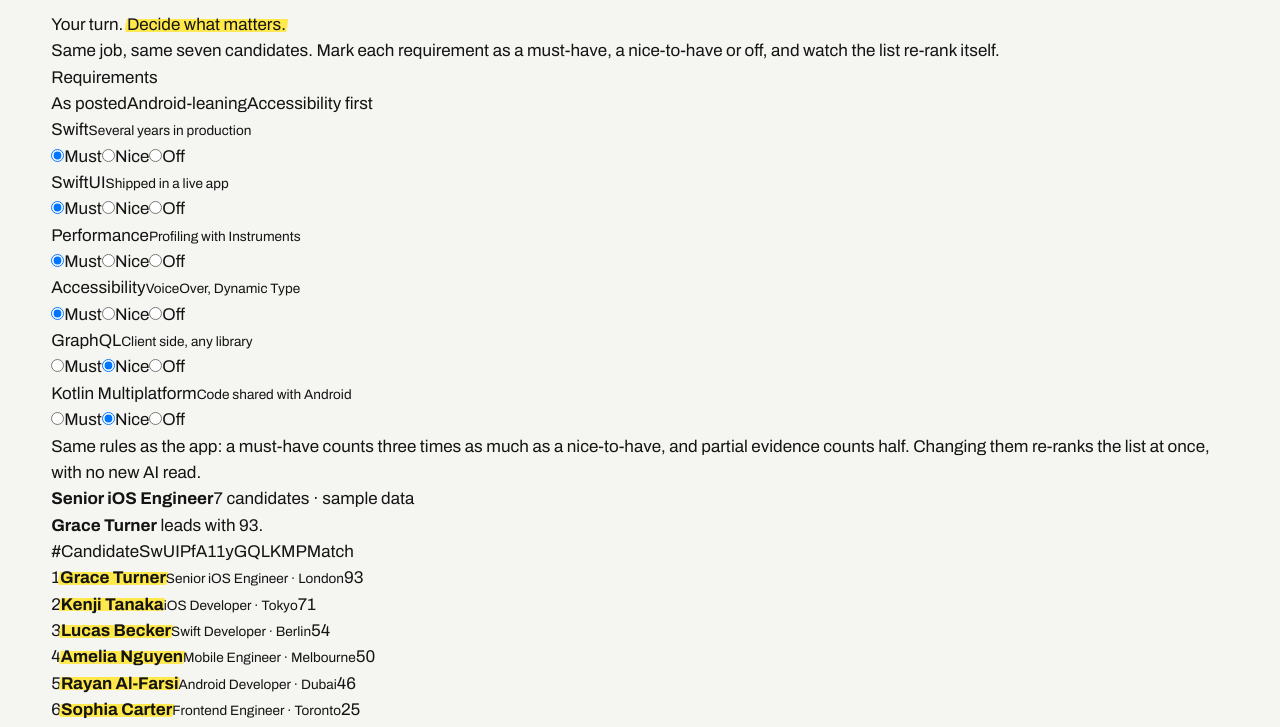
Test: ranks the sample list as posted, then re-ranks it when the weights change
The width and height of the screenshot is (1280, 727).
What coordinates should you click on to do the following:
click the button "Android-leaning"
I would click on:
 (187, 104)
Its box is [127,91,247,117].
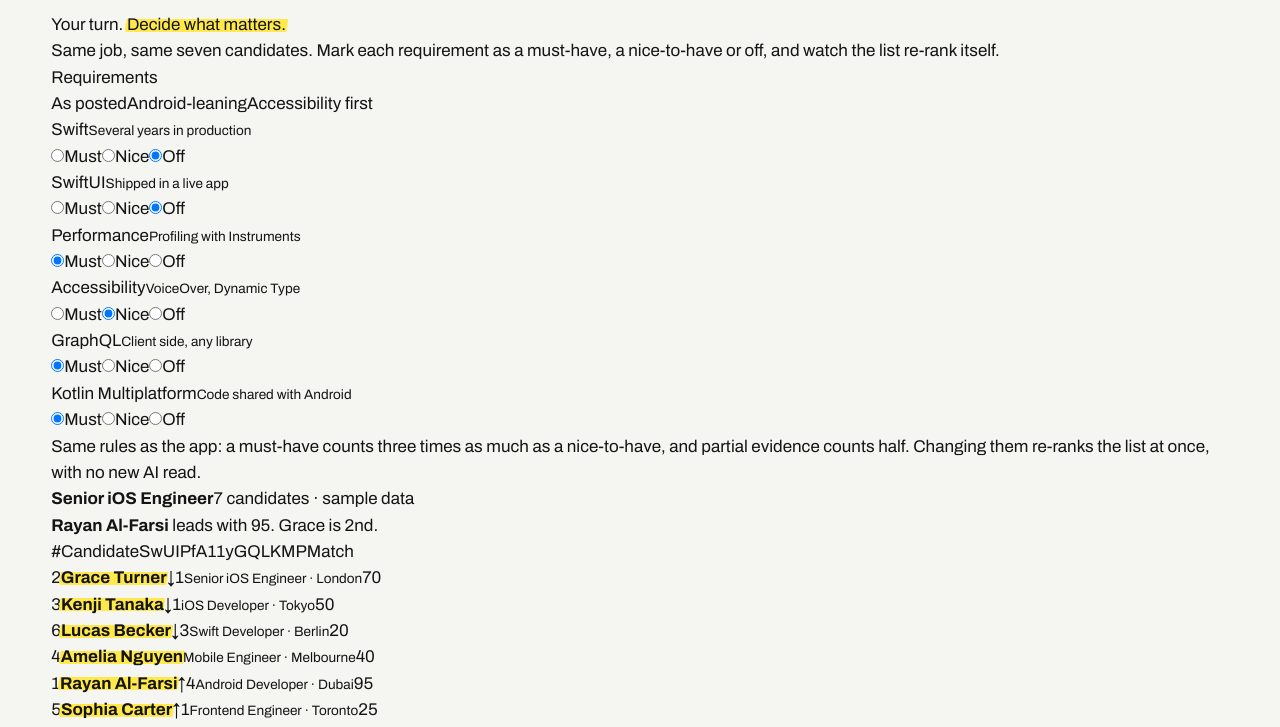
Expected: the text "Rayan Al-Farsi leads with 95. Grace is 2nd." is shown, [51,516,378,534]
